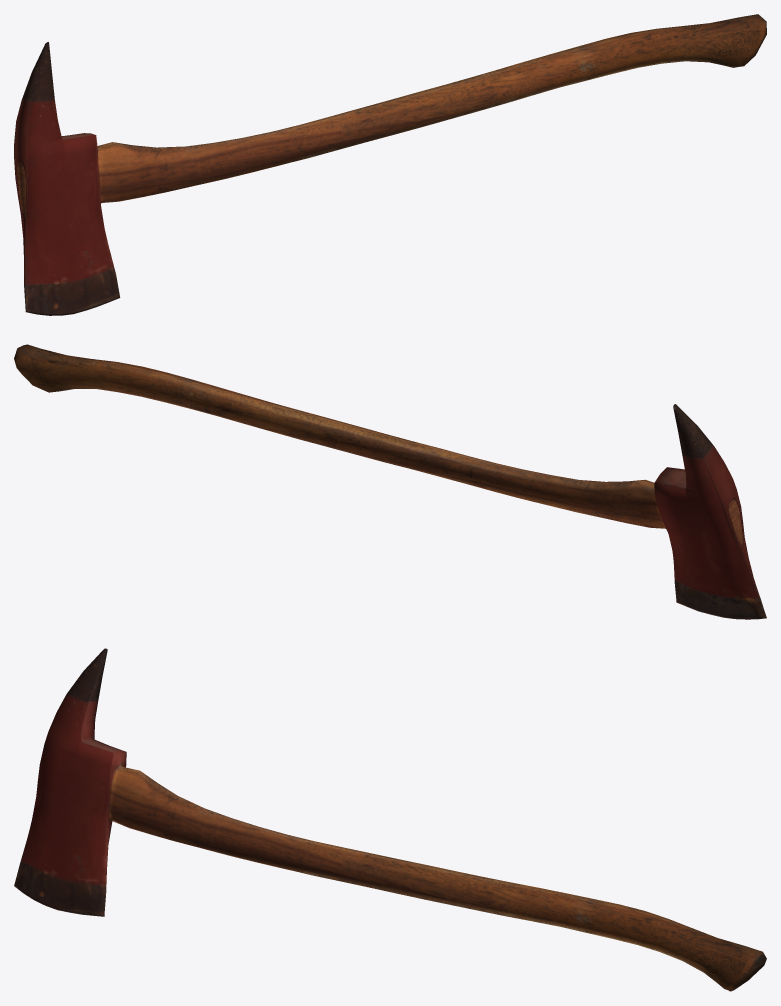
Rendered from FireAxe.fbx.
The picture shows the model from 3 angles, top to bottom: view 1: azimuth 30°, elevation 25°; view 2: azimuth 150°, elevation 25°; view 3: azimuth 330°, elevation 25°; orthographic projection.
Visible parts, largest first — view 1: Axe_lowpoly; view 2: Axe_lowpoly; view 3: Axe_lowpoly.
Part boxes in pixels (x1,y1,x2,y2): Axe_lowpoly: (14,14,766,315); Axe_lowpoly: (14,344,766,619); Axe_lowpoly: (14,648,766,991).
Bounding box in the file's own units: 1.4 × 0.1257 × 0.4334.
